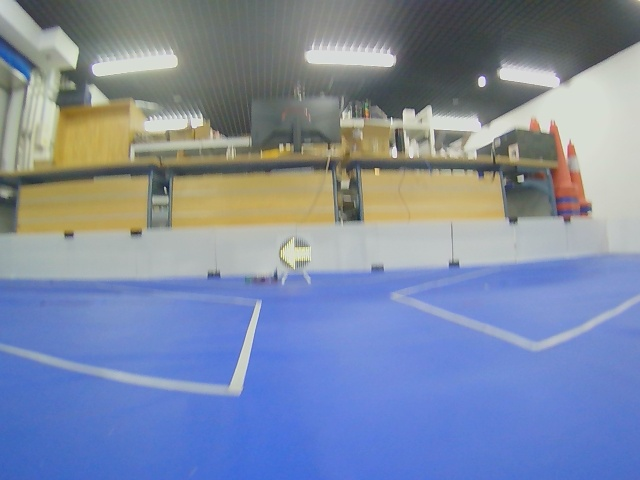left_yellow: (279, 235, 312, 273)
